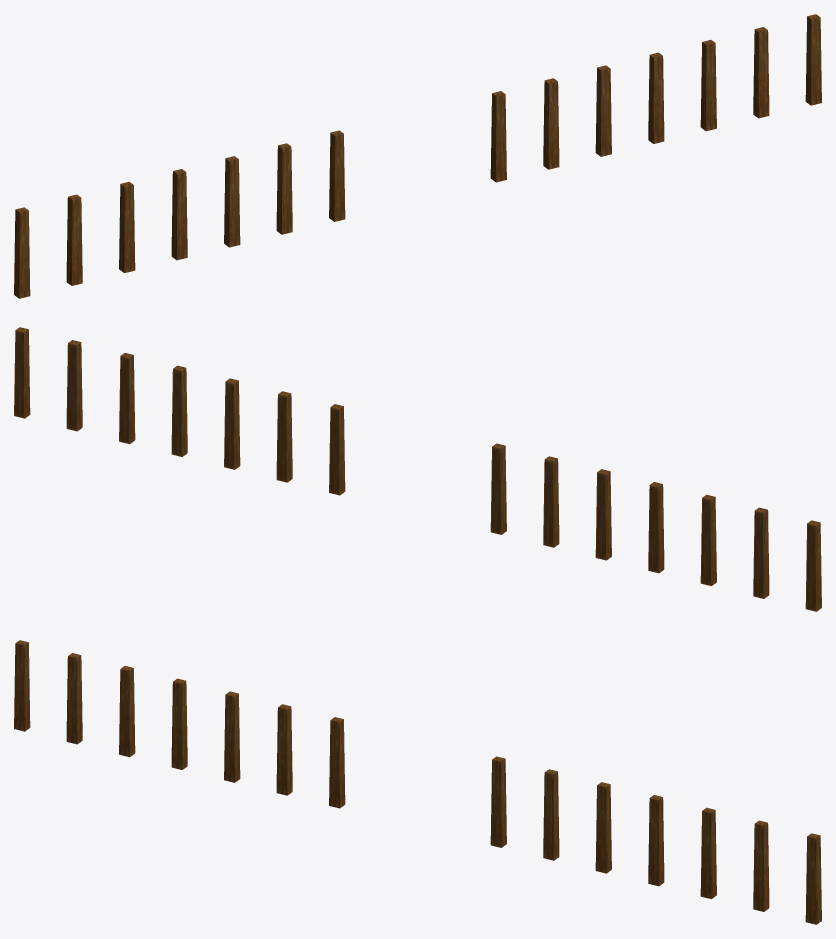
3 views of the same model, one above another, from view 1: azimuth 30°, elevation 25°; view 2: azimuth 150°, elevation 25°; view 3: azimuth 330°, elevation 25° (orthographic).
Parts seen in each view (by area): view 1: 4x4.079; view 2: 4x4.079; view 3: 4x4.079.
Boxes of the visible parts, x1,y1,x2,y2 form: 4x4.079: (14, 14, 821, 298); 4x4.079: (14, 327, 821, 611); 4x4.079: (14, 640, 821, 924).
Bounding box in the file's own units: 1309 × 133 × 15.14.
Materials: 1 (1 with a texture image).
